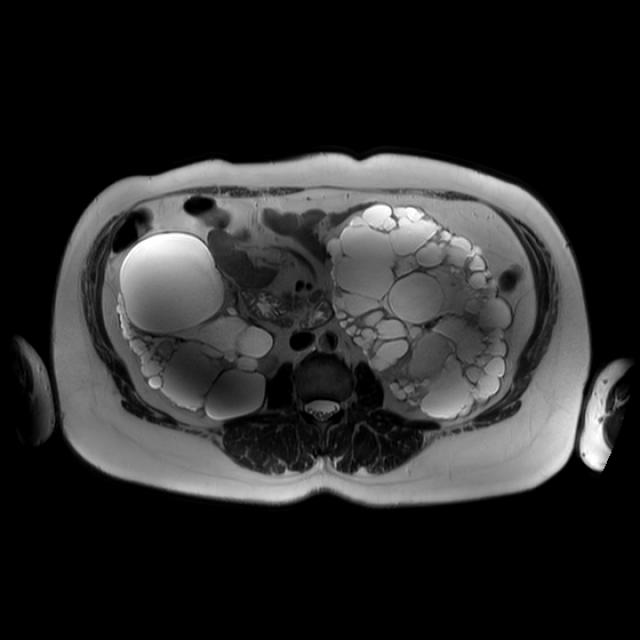sag: (118, 232, 274, 419)
sol: (327, 206, 513, 418)
